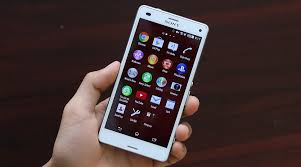sony: (88, 1, 209, 163)
